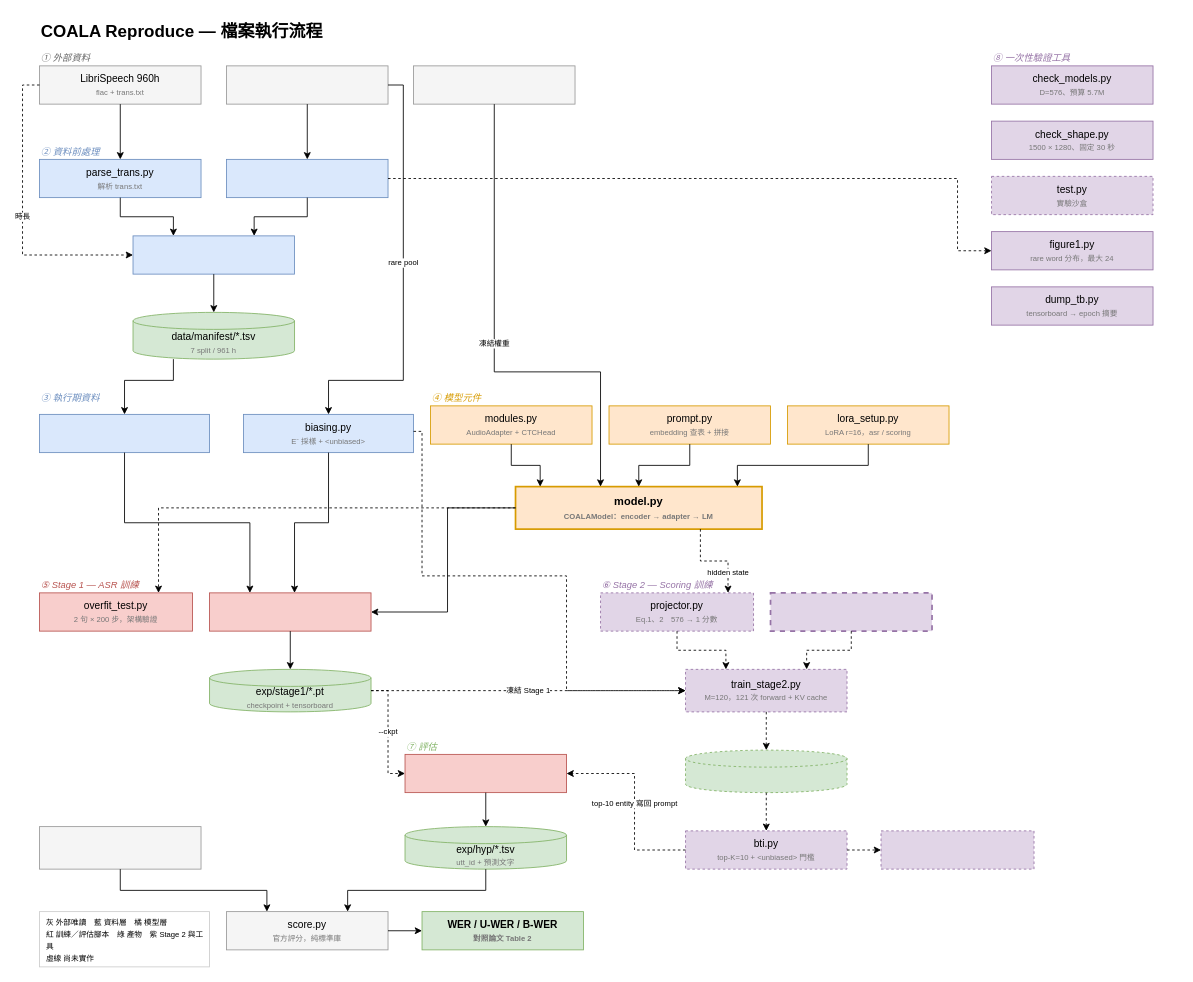
The diagram is 1193 pixels wide and 982 high, and some of its shapes have lost their labels. Here are the shapes that lost their labels. From the top down, the centre of each, then its label:
the point at 307,84: fbai-speech/words common_5k / rare_209k
the point at 494,84: HuggingFace Hub Whisper-large-v2 + SmolLM2-135M
the point at 307,178: rare_words.py 判定 E⁺
the point at 213,254: build_manifest.py 時長 / 小寫 / E⁺
the point at 124,433: dataset.py log-Mel 特徵
the point at 290,611: train_stage1.py adapter + CTC + LoRA_asr
the point at 850,612: losses.py Eq.3 disc、Eq.4 MPD、Eq.5 DPD
the point at 485,773: evaluate.py generate() 逐句解碼
the point at 766,771: exp/stage2/*.pt projector + LoRA_scoring
the point at 120,847: fbai-speech/ref 官方 biasing list，無 N=5000
the point at 957,849: recall.py Recall@X、Recall#X
